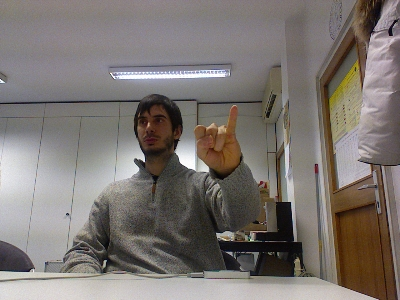小指: (193, 103, 243, 173)
